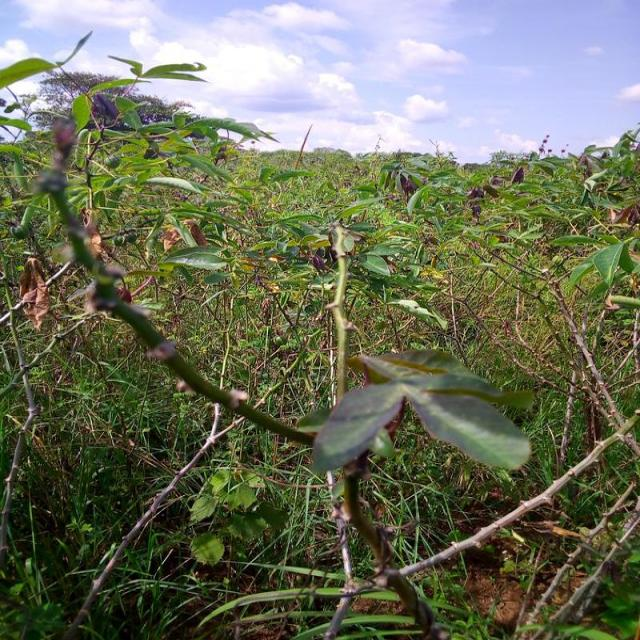cassava leaf: (310, 346, 533, 474)
